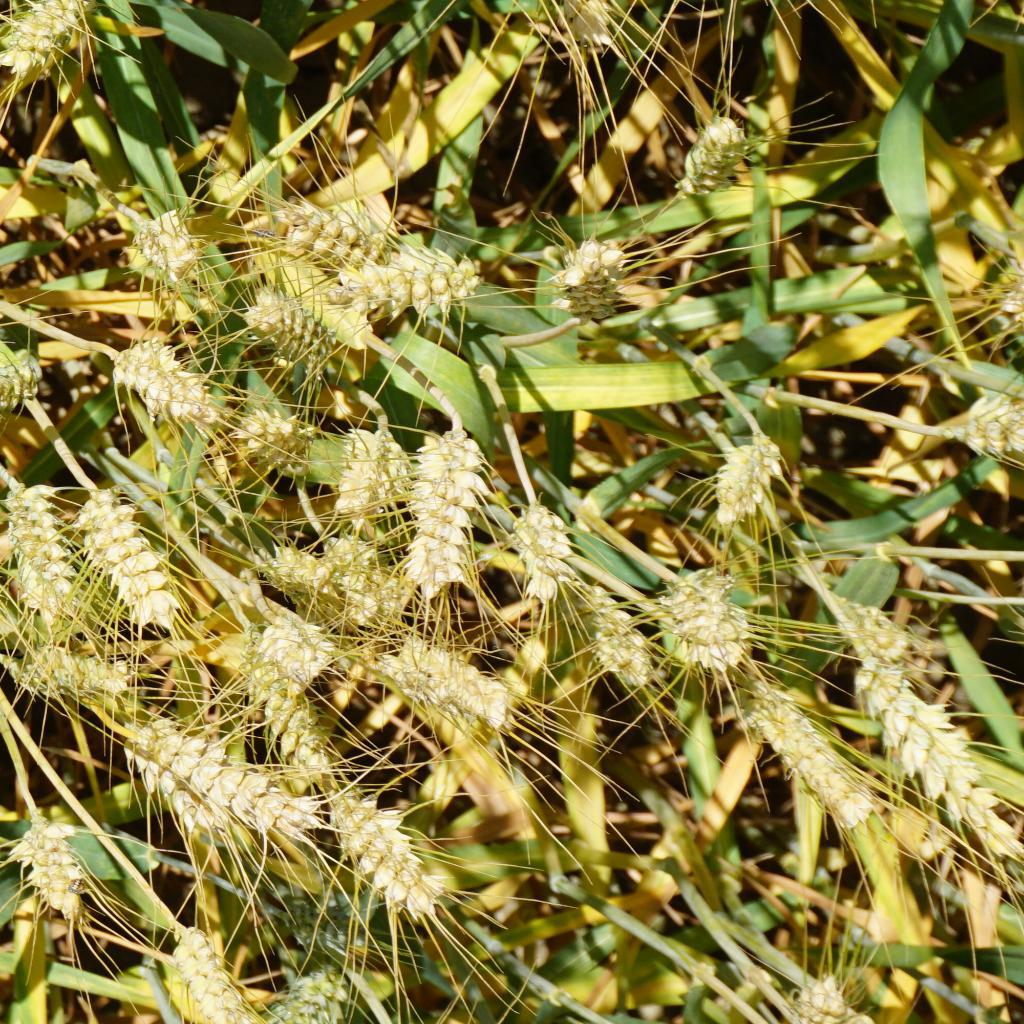0-0: (860, 645, 1007, 848), (153, 709, 328, 868), (391, 415, 505, 608), (63, 477, 188, 640), (745, 669, 866, 830), (334, 772, 444, 908), (0, 476, 87, 637), (98, 329, 226, 437), (327, 245, 492, 320), (122, 712, 223, 827), (391, 631, 507, 731), (264, 195, 396, 282), (241, 662, 339, 779), (312, 522, 409, 632), (240, 280, 339, 384), (665, 553, 752, 671), (548, 221, 636, 334), (670, 109, 760, 208), (156, 923, 244, 1024), (126, 204, 223, 287), (712, 436, 799, 528), (507, 491, 570, 610), (823, 572, 910, 654), (329, 422, 403, 516), (252, 607, 339, 684), (275, 884, 369, 955), (231, 396, 316, 473), (24, 628, 122, 694), (236, 528, 327, 597), (583, 594, 654, 681), (27, 816, 86, 917), (949, 388, 1024, 466), (265, 958, 353, 1024), (524, 0, 618, 56), (769, 963, 847, 1024), (0, 0, 83, 56), (0, 339, 38, 409)
